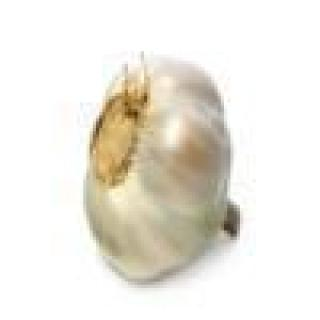Bawang Putih: (72, 40, 248, 283)
